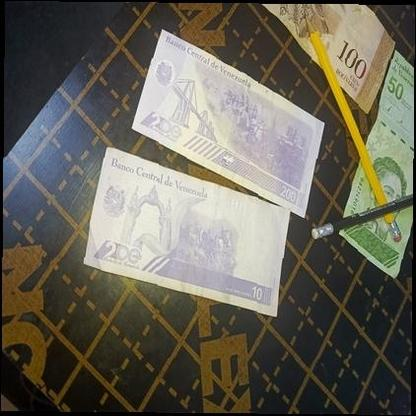vef_back: (130, 29, 326, 218), (82, 146, 290, 316)
vef_front: (337, 49, 416, 280)
